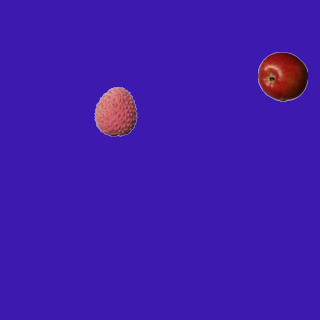Apple Braeburn: (257, 51, 307, 101)
Lychee: (90, 86, 140, 136)
